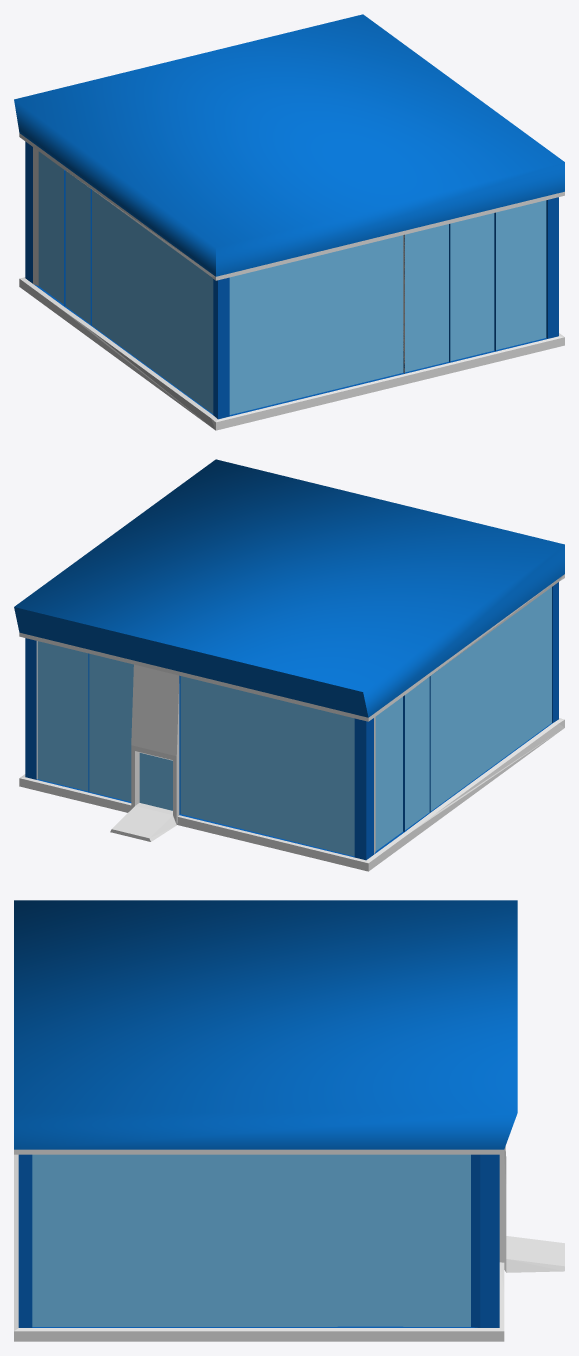
Rendered from Shop8x8x4Blue.fbx.
3 renders of one model, top to bottom at view 1: azimuth 30°, elevation 25°; view 2: azimuth 150°, elevation 25°; view 3: azimuth 270°, elevation 25°, orthographic. The views are drawn at different scales.
Visible parts, largest first — view 1: Shop.001; view 2: Shop.001; view 3: Shop.001.
Part boxes in pixels (box(x1,y1,x2,y2)): Shop.001: box(14, 14, 564, 430); Shop.001: box(14, 459, 564, 871); Shop.001: box(14, 900, 564, 1341).
Size of the model in its own units: 7.96 by 4 by 8.72.
Materials: 1 (1 with a texture image).
